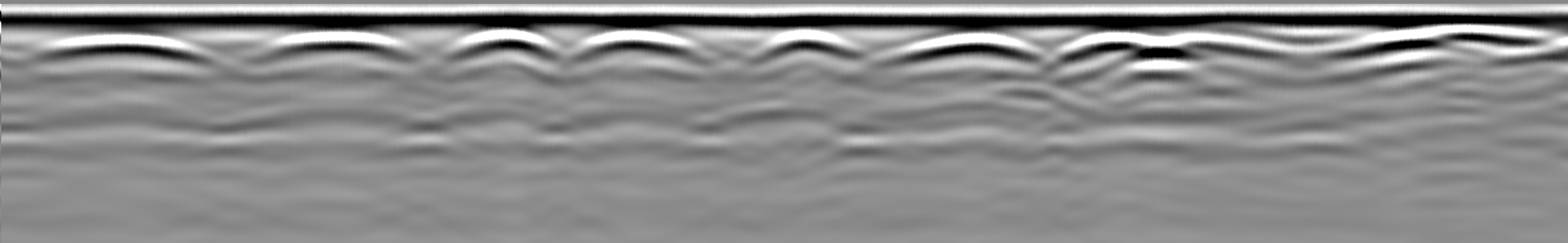steel: (1335, 31, 1564, 72), (1063, 31, 1284, 71), (252, 29, 426, 65), (38, 29, 217, 61), (894, 30, 1045, 65), (445, 27, 566, 69), (572, 31, 711, 65), (744, 31, 867, 64)
